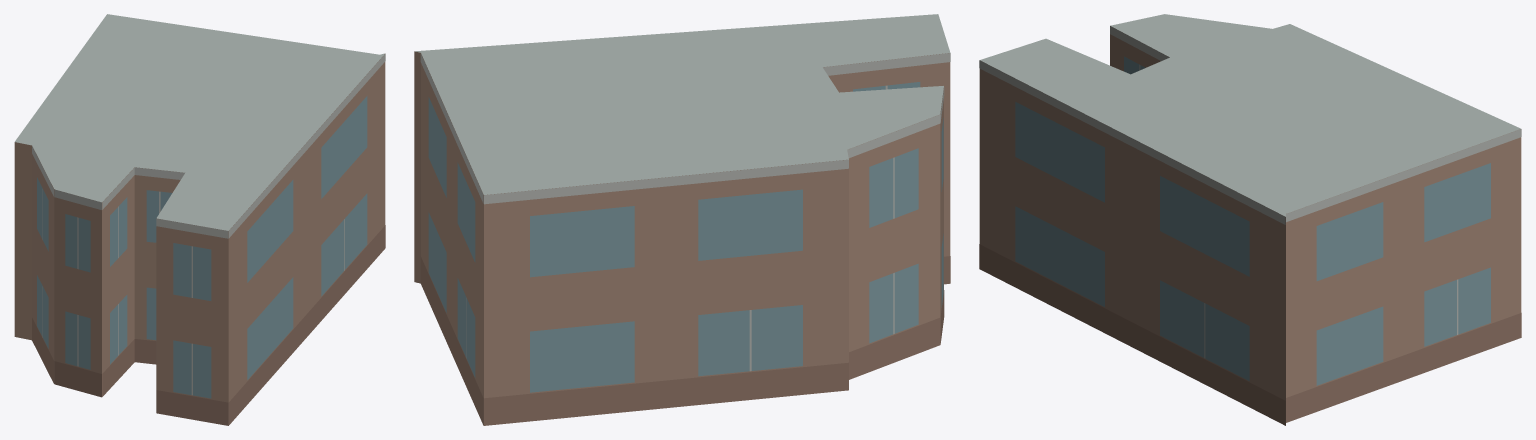
The model's file is survey-upis-32767405.glb.
3 renders of one model, left to right at view 1: azimuth 30°, elevation 25°; view 2: azimuth 150°, elevation 25°; view 3: azimuth 270°, elevation 25°, orthographic. The views are drawn at different scales.
Visible parts, largest first — view 1: survey-upis-32767405.tmp; view 2: survey-upis-32767405.tmp; view 3: survey-upis-32767405.tmp.
Boxes of the visible parts, left/top/right/bottom form: survey-upis-32767405.tmp: left=14, top=14, right=385, bottom=425; survey-upis-32767405.tmp: left=414, top=14, right=950, bottom=425; survey-upis-32767405.tmp: left=979, top=14, right=1521, bottom=425.
Bounding box in the file's own units: 12.71 × 6.1 × 14.34.
